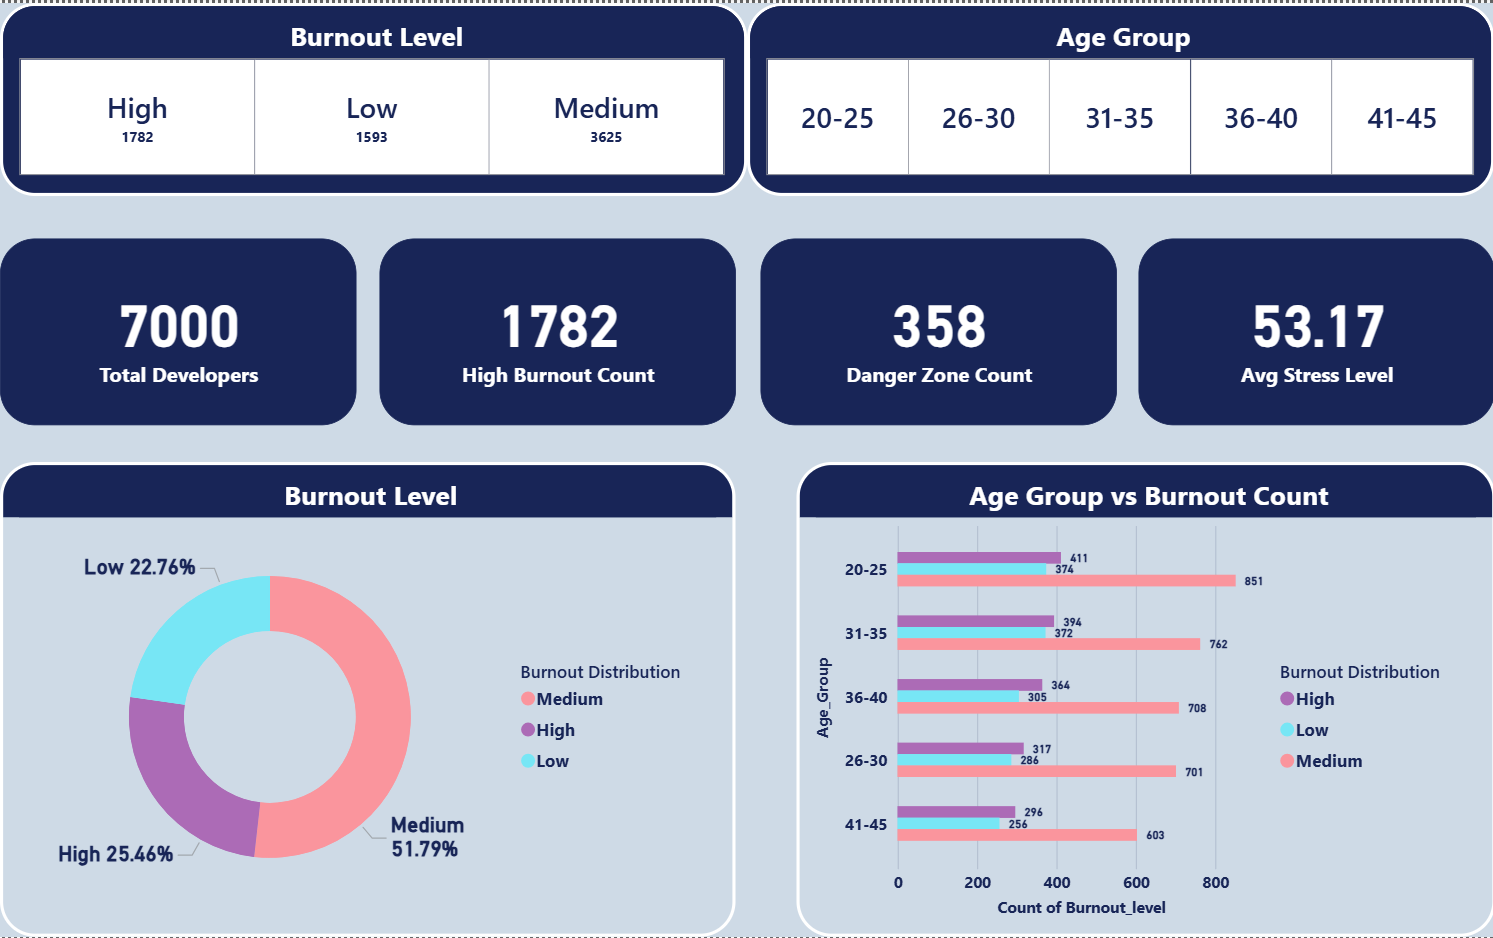

The page's visual inventory and layout, read from the dashboard file:
{"tool":"powerbi","page":{"name":"Executive Overview","canvas":[1280,800],"ordinal":0},"visuals":[{"type":"card","fields":{"Values":["Final.Total Developers"]},"box":[0,201.7,305,160],"z":0},{"type":"card","fields":{"Values":["Final.High Burnout Count"]},"box":[325,201.7,305,160],"z":1000},{"type":"card","fields":{"Values":["Final.Danger Zone Count"]},"box":[651.7,201.7,305,160],"z":2000},{"type":"card","fields":{"Values":["Avg(Final.Stress_level)"]},"box":[975,201.7,305,160],"z":3000},{"type":"donutChart","title":"Burnout Level","fields":{"Category":["Final.Burnout_level"],"Y":["CountNonNull(Final.Burnout_level)"]},"box":[0,393.3,630,406.7],"z":4000},{"type":"clusteredBarChart","title":"Age Group vs Burnout Count","fields":{"Category":["Final.Age_Group"],"Series":["Final.Burnout_level"],"Y":["CountNonNull(Final.Burnout_level)"]},"box":[681.7,393.3,598.3,406.7],"z":5000},{"type":"advancedSlicerVisual","title":"Burnout Level","fields":{"Values":["Final.Burnout_level"],"Label":["CountNonNull(Final.Burnout_level)"]},"box":[0,0,640,165],"z":6000},{"type":"advancedSlicerVisual","title":"Age Group","fields":{"Values":["Final.Age_Group"]},"box":[640,0,640,165],"z":7000}]}

Visuals, with their boxes in screenshot pixels (x1, y1, x2, y2), scaled from the page's 1280x800 canvas onto the 1493x938 screenshot:
card - Final.Total Developers: x1=0 y1=236 x2=356 y2=424
card - Final.High Burnout Count: x1=379 y1=236 x2=735 y2=424
card - Final.Danger Zone Count: x1=760 y1=236 x2=1116 y2=424
card - Avg(Final.Stress_level): x1=1137 y1=236 x2=1492 y2=424
"Burnout Level" donutChart: x1=0 y1=461 x2=735 y2=937
"Age Group vs Burnout Count" clusteredBarChart: x1=795 y1=461 x2=1492 y2=937
"Burnout Level" advancedSlicerVisual: x1=0 y1=0 x2=746 y2=193
"Age Group" advancedSlicerVisual: x1=746 y1=0 x2=1492 y2=193
